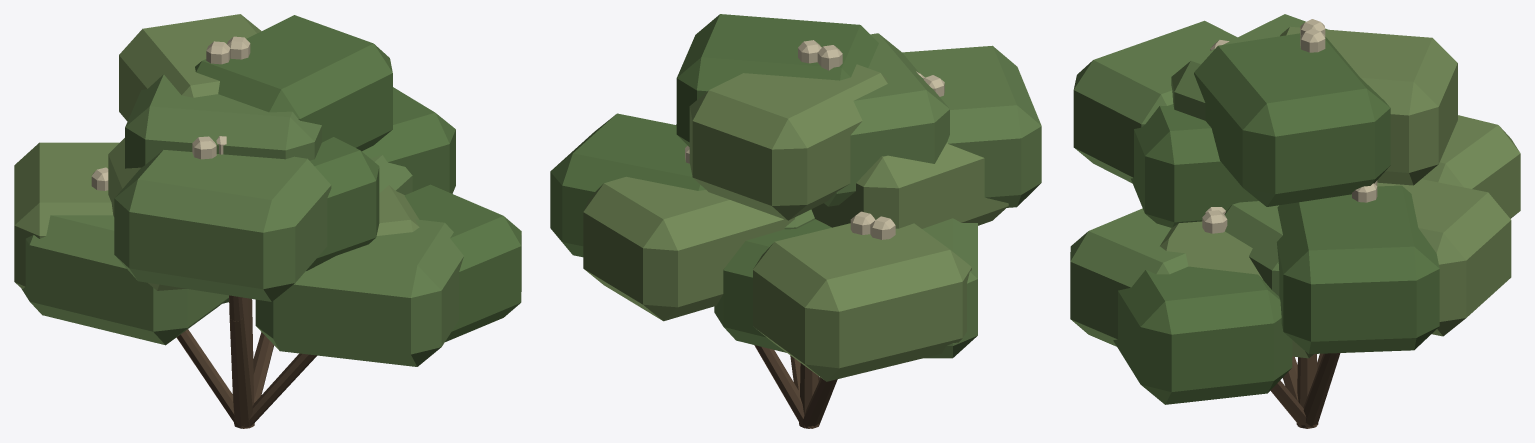
The model's file is blueberry_spring.glb.
3 renders of one model, left to right at view 1: azimuth 30°, elevation 25°; view 2: azimuth 150°, elevation 25°; view 3: azimuth 270°, elevation 25°, orthographic.
Parts seen in each view (by area): view 1: blueberry_spring; view 2: blueberry_spring; view 3: blueberry_spring.
Part boxes in pixels (x1=…): blueberry_spring: x1=14, y1=14, x2=521, y2=428; blueberry_spring: x1=550, y1=14, x2=1041, y2=428; blueberry_spring: x1=1070, y1=14, x2=1520, y2=428.
Bounding box in the file's own units: 1.75 × 1.58 × 1.65.
